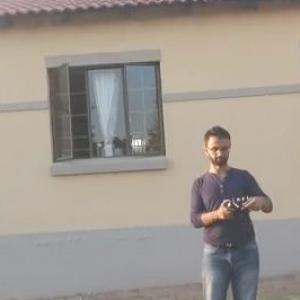follow: (184, 119, 280, 299)
